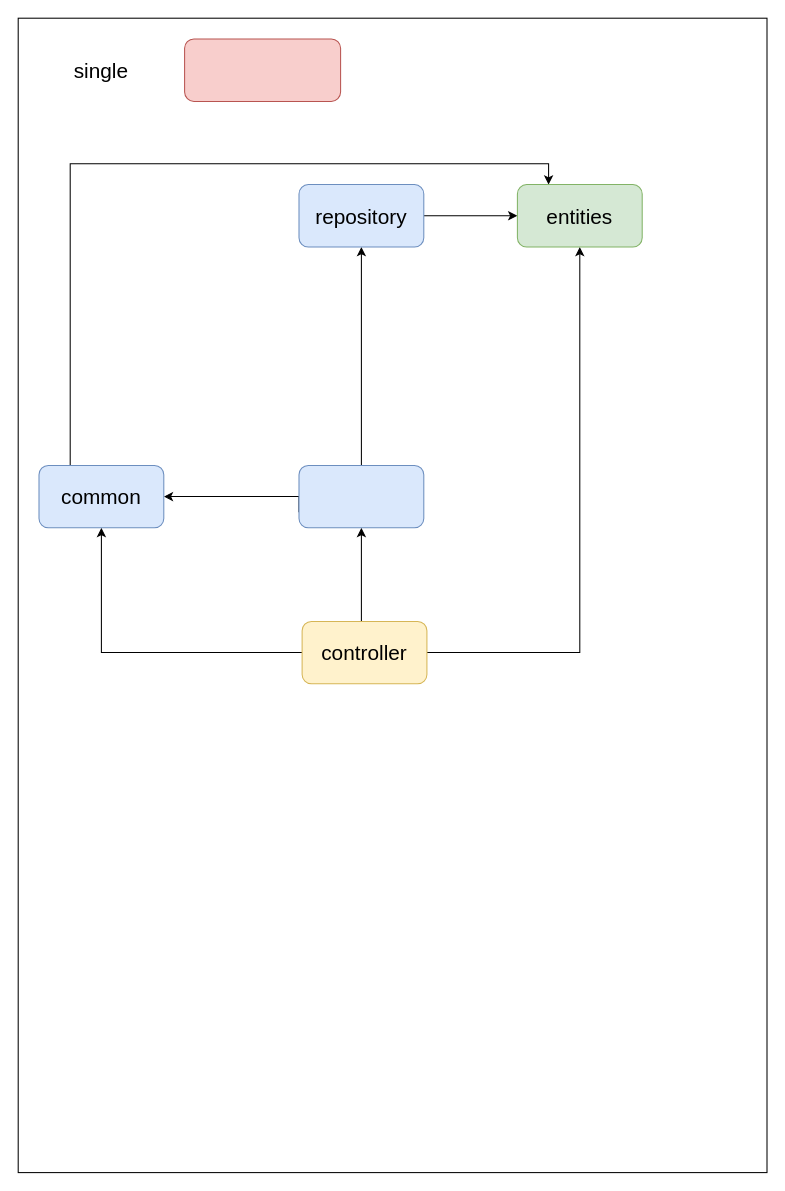
The diagram is 785 pixels wide and 1191 high, and some of its shapes have lost their labels. The centre of each missing label's shape, as x and y in pixels:
dependencies: (x=262, y=69)
service: (x=361, y=496)
